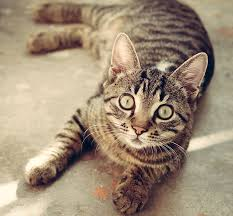cat: (21, 1, 222, 211)
